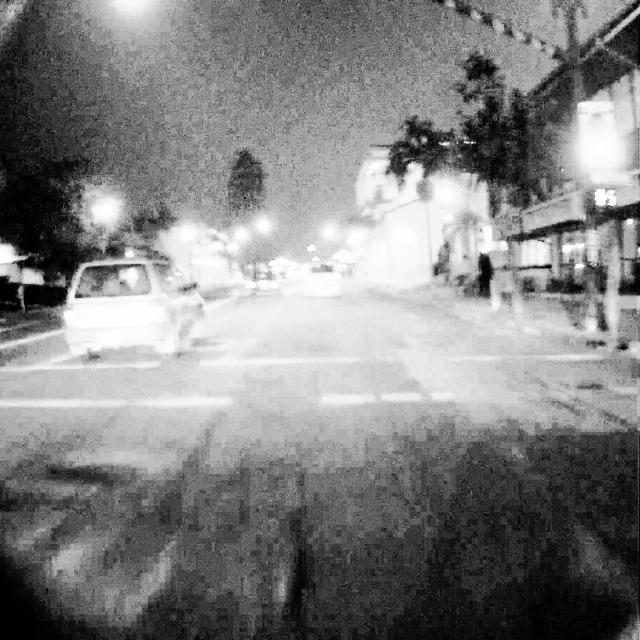Car: (68, 255, 208, 363)
Light: (585, 109, 613, 168), (590, 186, 616, 213)
